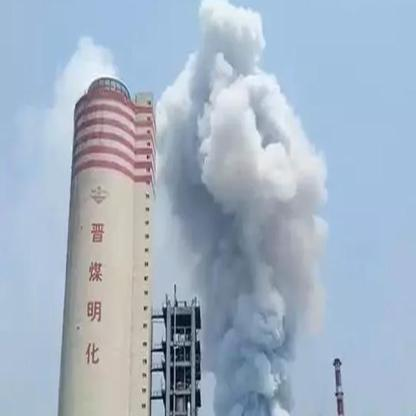smoke: (157, 81, 306, 210), (185, 210, 334, 335), (203, 329, 296, 410), (186, 2, 270, 85), (304, 135, 328, 214)
